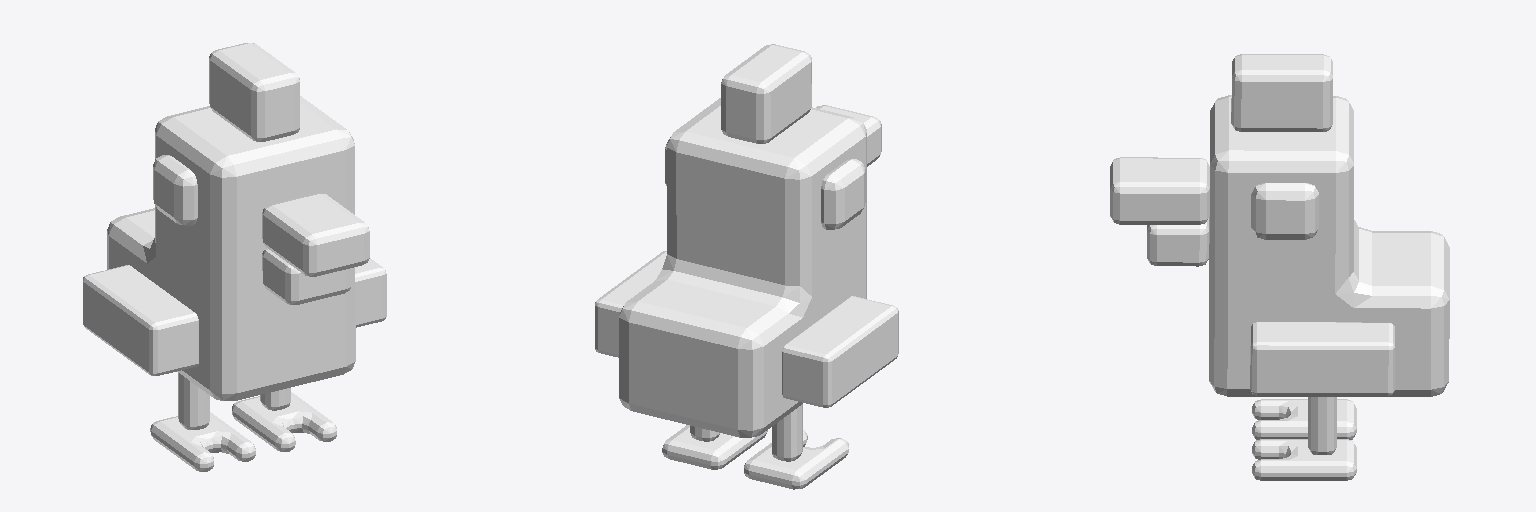
Rendered from Chicken.obj.
3 renders of one model, left to right at view 1: azimuth 30°, elevation 25°; view 2: azimuth 150°, elevation 25°; view 3: azimuth 270°, elevation 25°, orthographic.
Parts seen in each view (by area): view 1: Chicken_Cube.001; view 2: Chicken_Cube.001; view 3: Chicken_Cube.001.
Part boxes in pixels (x1,y1,x2,y2): Chicken_Cube.001: (83,43,386,471); Chicken_Cube.001: (595,44,898,489); Chicken_Cube.001: (1110,54,1449,480).
Size of the model in its own units: 0.7963 by 1.24 by 0.9861.